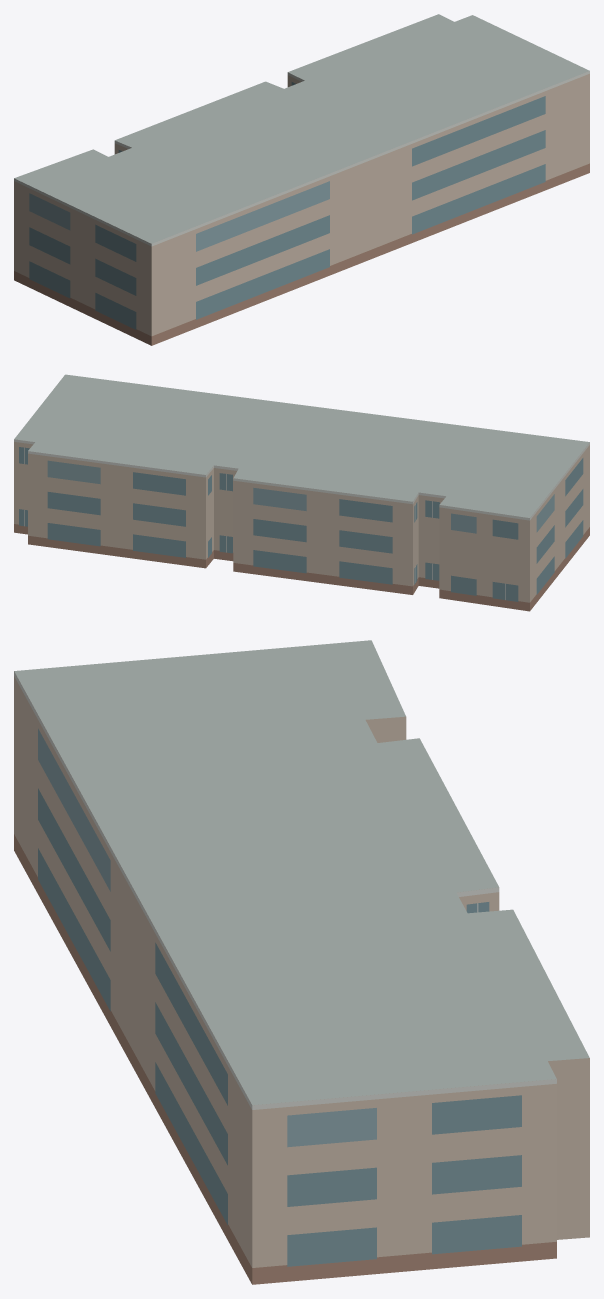
File: survey-upis-32848298.glb
3 renders of one model, top to bottom at view 1: azimuth 30°, elevation 25°; view 2: azimuth 150°, elevation 25°; view 3: azimuth 270°, elevation 25°, orthographic. The views are drawn at different scales.
Visible parts, largest first — view 1: survey-upis-32848298.tmp; view 2: survey-upis-32848298.tmp; view 3: survey-upis-32848298.tmp.
Boxes of the visible parts, <box> form: survey-upis-32848298.tmp: <box>14,14,589,345</box>; survey-upis-32848298.tmp: <box>14,374,589,611</box>; survey-upis-32848298.tmp: <box>14,640,589,1284</box>.
Bounding box in the file's own units: 50.88 × 9.15 × 26.62.
